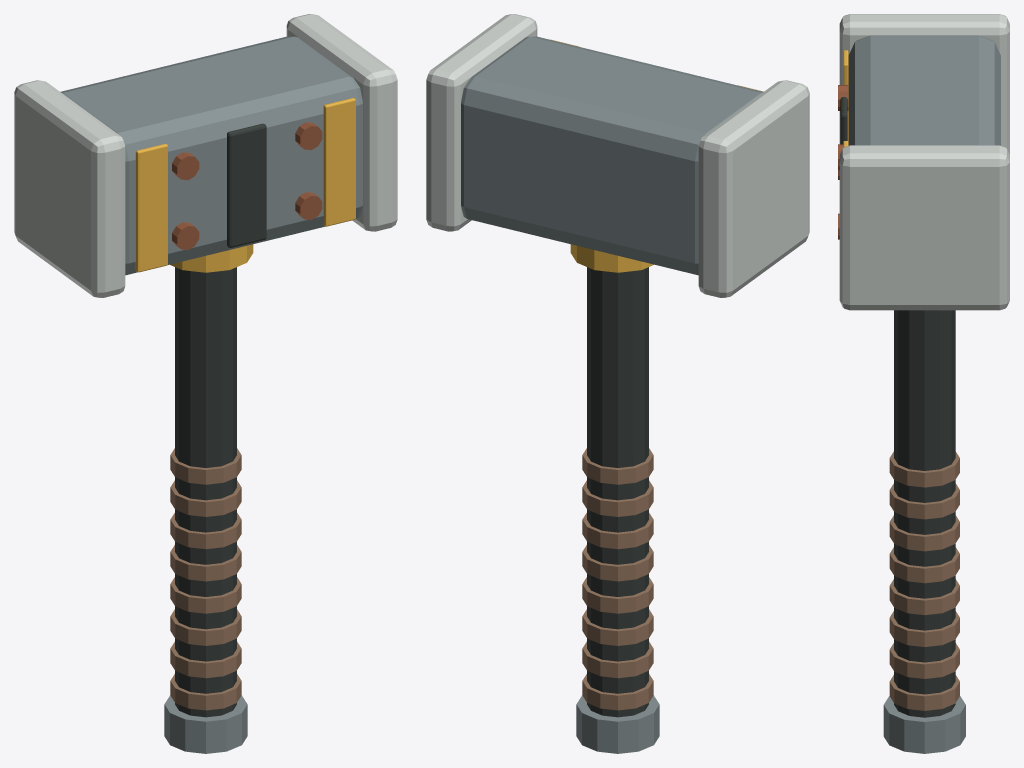
File: Sledgehammer.fbx
The picture shows the model from 3 angles, left to right: view 1: azimuth 30°, elevation 25°; view 2: azimuth 150°, elevation 25°; view 3: azimuth 270°, elevation 25°; orthographic projection.
Visible parts, largest first — view 1: Tête forgée, Face de frappe, Manche renforcé, Face de frappe.001, Renfort de tête, Bande peinture.001, Bande peinture, Bout de manche, Bandage manche 00, Bandage manche 04, Bandage manche 07, Bandage manche 02 (+5 smaller); view 2: Tête forgée, Face de frappe, Manche renforcé, Face de frappe.001, Bout de manche, Bandage manche 00, Bandage manche 04, Bandage manche 07, Bandage manche 02, Bandage manche 03, Bandage manche 06, Bandage manche 01 (+2 smaller); view 3: Face de frappe.001, Manche renforcé, Tête forgée, Face de frappe, Bout de manche, Bandage manche 06, Bandage manche 04, Bandage manche 07, Bandage manche 05, Bandage manche 00, Bandage manche 01, Bandage manche 02 (+2 smaller).
Part boxes in pixels (left/top/right/bottom): Tête forgée: left=60, top=36, right=362, bottom=275; Face de frappe: left=14, top=80, right=125, bottom=297; Manche renforcé: left=175, top=267, right=236, bottom=717; Face de frappe.001: left=286, top=14, right=397, bottom=231; Renfort de tête: left=227, top=123, right=266, bottom=247; Bande peinture.001: left=323, top=98, right=355, bottom=226; Bande peinture: left=135, top=143, right=167, bottom=272; Bout de manche: left=164, top=695, right=247, bottom=753; Bandage manche 00: left=170, top=674, right=241, bottom=710; Bandage manche 04: left=170, top=545, right=241, bottom=581; Bandage manche 07: left=170, top=448, right=241, bottom=484; Bandage manche 02: left=170, top=609, right=241, bottom=645; Tête forgée: left=461, top=36, right=763, bottom=275; Face de frappe: left=698, top=80, right=809, bottom=297; Manche renforcé: left=587, top=267, right=648, bottom=717; Face de frappe.001: left=426, top=14, right=537, bottom=231; Bout de manche: left=576, top=695, right=659, bottom=753; Bandage manche 00: left=582, top=674, right=653, bottom=710; Bandage manche 04: left=582, top=545, right=653, bottom=581; Bandage manche 07: left=582, top=448, right=653, bottom=484; Bandage manche 02: left=582, top=609, right=653, bottom=645; Bandage manche 03: left=582, top=577, right=653, bottom=613; Bandage manche 06: left=582, top=480, right=653, bottom=516; Bandage manche 01: left=582, top=641, right=653, bottom=678; Face de frappe.001: left=839, top=145, right=1009, bottom=310; Manche renforcé: left=894, top=310, right=955, bottom=717; Tête forgée: left=848, top=35, right=1000, bottom=145; Face de frappe: left=839, top=14, right=1009, bottom=154; Bout de manche: left=883, top=696, right=965, bottom=753; Bandage manche 06: left=889, top=483, right=959, bottom=519; Bandage manche 04: left=889, top=547, right=959, bottom=583; Bandage manche 07: left=889, top=451, right=959, bottom=487; Bandage manche 05: left=889, top=515, right=959, bottom=551; Bandage manche 00: left=889, top=675, right=959, bottom=710; Bandage manche 01: left=889, top=643, right=959, bottom=678; Bandage manche 02: left=889, top=611, right=959, bottom=646.
Size of the model in its own units: 119 by 246 by 58.55.
